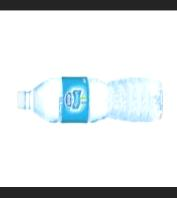bottle: (13, 72, 165, 127)
